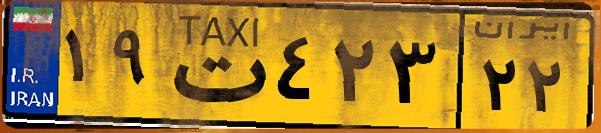1: (57, 26, 110, 100)
2: (330, 28, 385, 110), (475, 38, 525, 113), (525, 38, 570, 115)
3: (385, 28, 445, 110)
4: (270, 28, 330, 110)
9: (110, 28, 158, 98)
ت: (158, 12, 270, 120)
